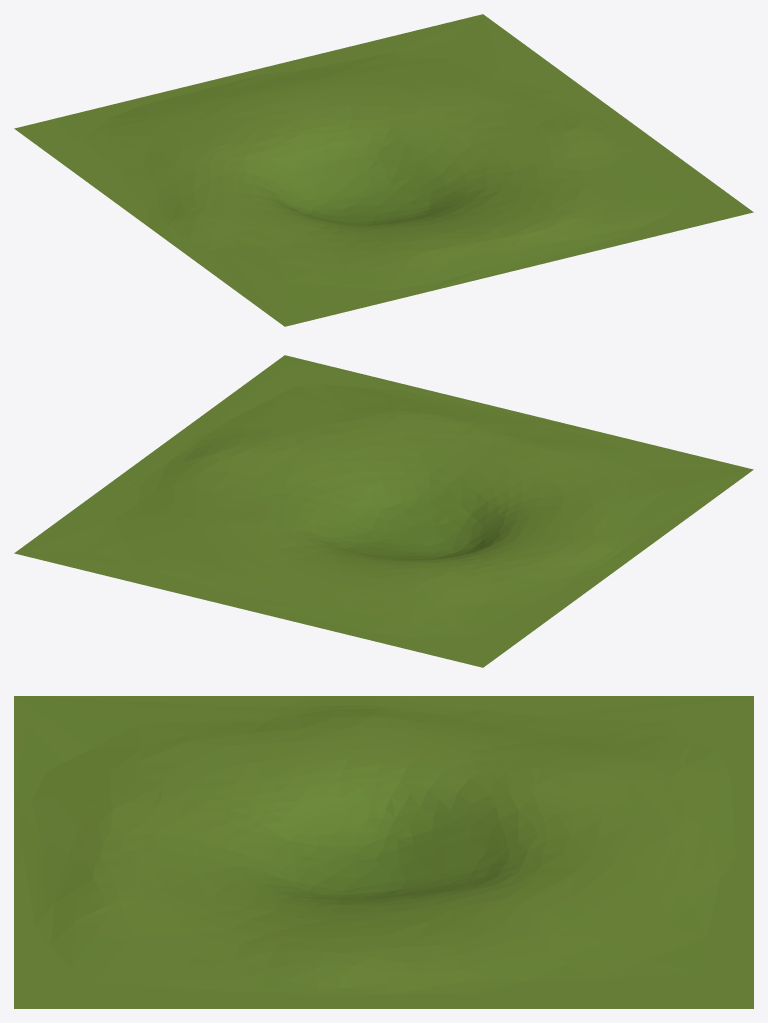
File: Terrain_10.glb
The picture shows the model from 3 angles, top to bottom: view 1: azimuth 30°, elevation 25°; view 2: azimuth 150°, elevation 25°; view 3: azimuth 270°, elevation 25°; orthographic projection. The views are drawn at different scales.
Parts seen in each view (by area): view 1: Terrain_10; view 2: Terrain_10; view 3: Terrain_10.
Boxes of the visible parts, x1,y1,x2,y2 form: Terrain_10: (14, 14, 753, 326); Terrain_10: (14, 355, 753, 667); Terrain_10: (14, 696, 753, 1008).
Size of the model in its own units: 128 by 8.48 by 128.
1 material, 1 textured.
